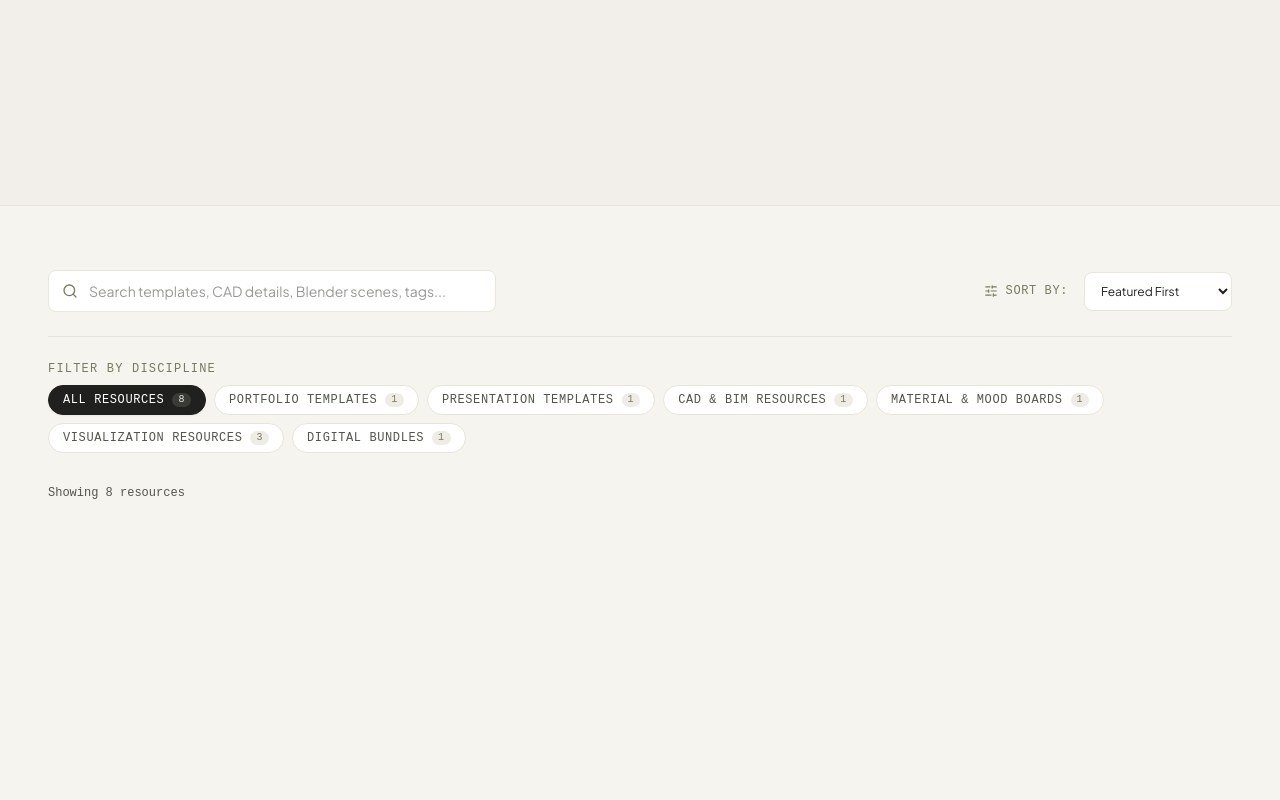
Scenario: PHASE 04 — Digital Design Marketplace › /shop Catalog Route UI › filters products in the UI when category pills are clicked
(page scrolled)
# Click "CAD & BIM Resources" pill
Click the tab "CAD & BIM Resources 1" at x=766, y=400, box x1=663 y1=385 x2=868 y2=415
(page scrolled)
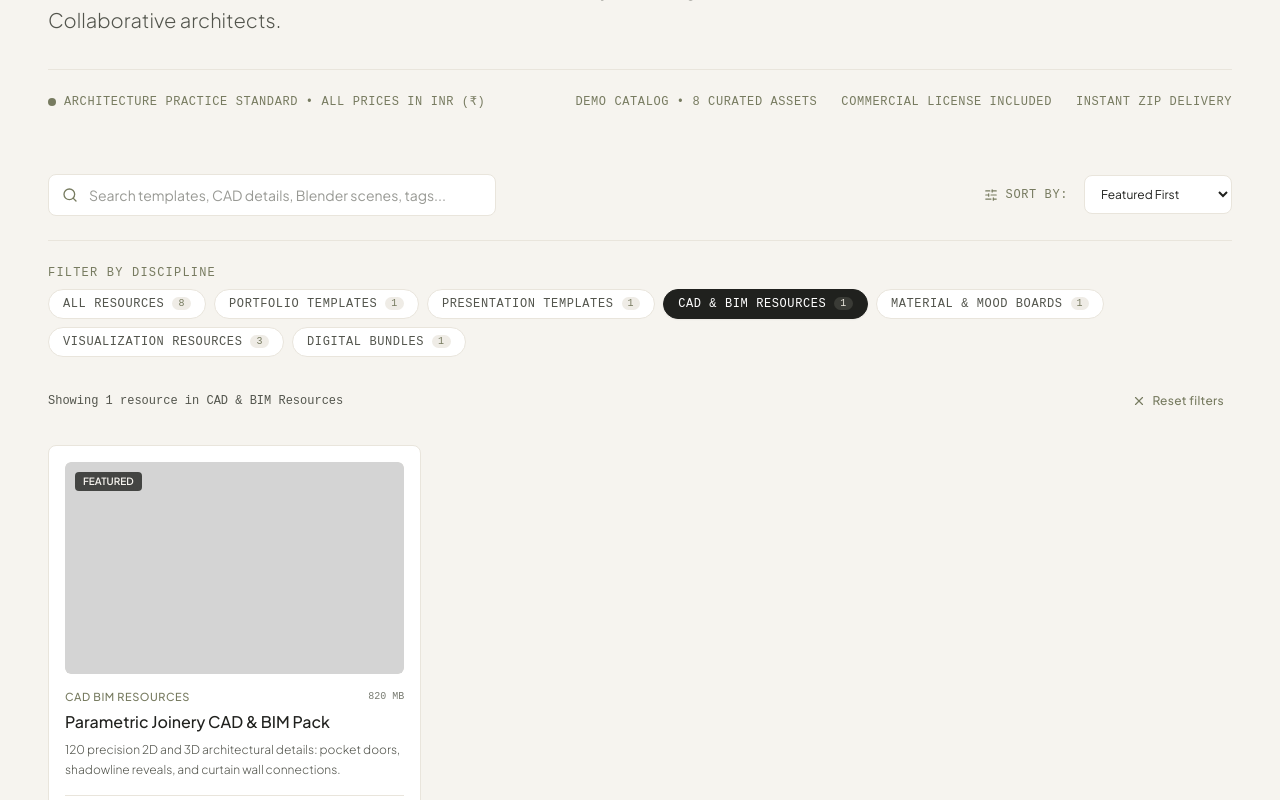
Expected: the text "Parametric Joinery CAD & BIM Pack" is shown, x1=65 y1=710 x2=330 y2=734
Expected: the text with test id "results-counter" reads "Showing 1 resource in CAD & BIM Resources", x1=48 y1=393 x2=343 y2=409
